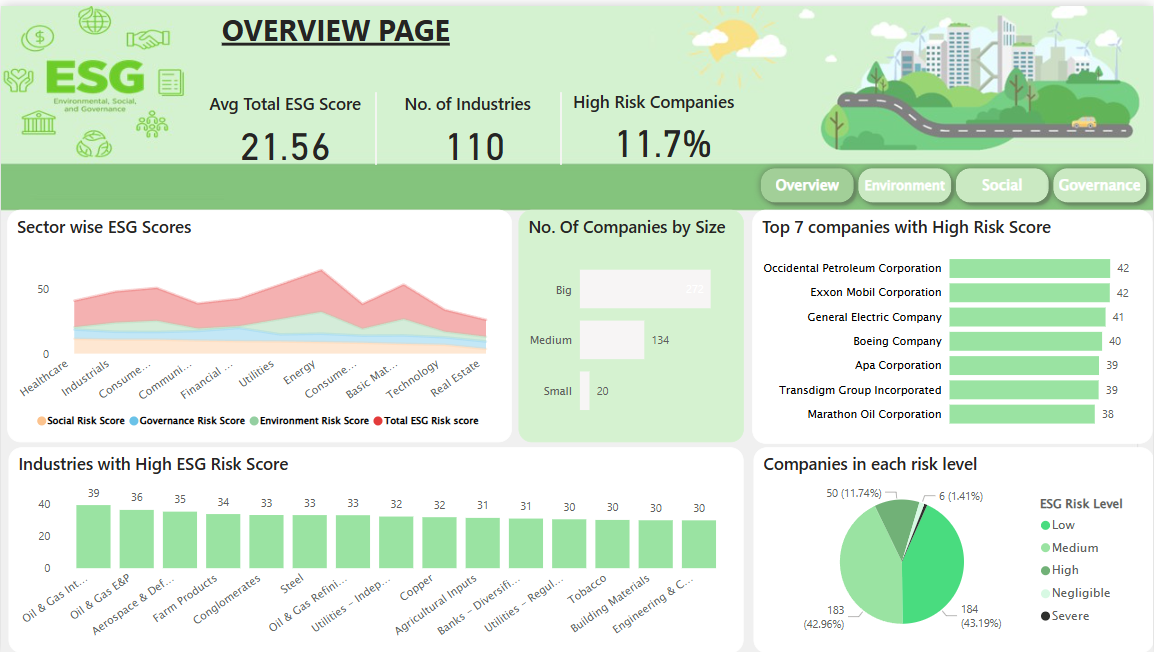

This screenshot's page, from the dashboard's own definition file:
{"tool":"powerbi","page":{"name":"Overview","canvas":[1280,720],"ordinal":0},"visuals":[{"type":"card","title":"Avg Total ESG Score","fields":{"Values":["Table.Avg ESG Risk Score"]},"box":[226.4,96.2,179.2,91.7],"z":0},{"type":"columnChart","title":"Industries with High ESG Risk Score","fields":{"Category":["SP 500 ESG Risk Ratings.Industry"],"Y":["Table.Avg ESG Risk Score"]},"box":[8.3,490.3,816.7,229.2],"z":1000},{"type":"pieChart","title":"Companies in each risk level","fields":{"Category":["SP 500 ESG Risk Ratings.ESG Risk Level"],"Y":["Table.Total Risk Level"]},"box":[836.1,490.3,444.4,229.2],"z":2000},{"type":"barChart","title":"No. Of Companies by Size","fields":{"Category":["SP 500 ESG Risk Ratings.Company Size"],"Y":["CountNonNull(SP 500 ESG Risk Ratings.Name)"]},"box":[575,226.4,250,258.3],"z":3000},{"type":"barChart","title":"Top 7 companies with High Risk  Score","fields":{"Category":["SP 500 ESG Risk Ratings.Name"],"Y":["Sum(SP 500 ESG Risk Ratings.Total ESG Risk score)"]},"box":[834.7,226.4,444.4,259.7],"z":4000},{"type":"stackedAreaChart","title":"Sector wise ESG Scores","fields":{"Category":["SP 500 ESG Risk Ratings.Sector"],"Y":["Avg(SP 500 ESG Risk Ratings.Social Risk Score)","Avg(SP 500 ESG Risk Ratings.Governance Risk Score)","Avg(SP 500 ESG Risk Ratings.Environment Risk Score)","Avg(SP 500 ESG Risk Ratings.Total ESG Risk score)"]},"box":[6.9,226.4,561.1,258.3],"z":5000},{"type":"card","title":"No. of Industries","fields":{"Values":["Table.No. of Industries"]},"box":[443.1,96.2,166.7,91.7],"z":6000},{"type":"card","title":"High Risk Companies","fields":{"Values":["SP 500 ESG Risk Ratings.High_Risk_Companies_Pct"]},"box":[630.6,93.5,209.7,91.7],"z":7000},{"type":"shape","box":[344.4,96.2,144.4,80.6],"z":8000},{"type":"shape","box":[512.5,96.2,219.4,80.6],"z":9000},{"type":"shape","box":[836.1,172.2,119.4,54.2],"z":10000},{"type":"shape","box":[944.4,172.2,119.4,54.2],"z":11000},{"type":"shape","box":[1052.8,172.2,119.4,54.2],"z":12000},{"type":"shape","box":[1160.6,172.2,119.4,54.2],"z":13000},{"type":"textbox","box":[240.3,0,272.2,62.5],"z":14000}]}

Visuals, with their boxes in screenshot pixels (x1, y1, x2, y2), scaled from the page's 1280x720 canvas onto the 1154x652 screenshot:
"Avg Total ESG Score" card: x1=204 y1=87 x2=366 y2=170
"Industries with High ESG Risk Score" columnChart: x1=7 y1=444 x2=744 y2=651
"Companies in each risk level" pieChart: x1=754 y1=444 x2=1153 y2=651
"No. Of Companies by Size" barChart: x1=518 y1=205 x2=744 y2=439
"Top 7 companies with High Risk  Score" barChart: x1=753 y1=205 x2=1153 y2=440
"Sector wise ESG Scores" stackedAreaChart: x1=6 y1=205 x2=512 y2=439
"No. of Industries" card: x1=399 y1=87 x2=550 y2=170
"High Risk Companies" card: x1=569 y1=85 x2=758 y2=168
shape: x1=310 y1=87 x2=441 y2=160
shape: x1=462 y1=87 x2=660 y2=160
shape: x1=754 y1=156 x2=861 y2=205
shape: x1=851 y1=156 x2=959 y2=205
shape: x1=949 y1=156 x2=1057 y2=205
shape: x1=1046 y1=156 x2=1153 y2=205
textbox: x1=217 y1=0 x2=462 y2=57
